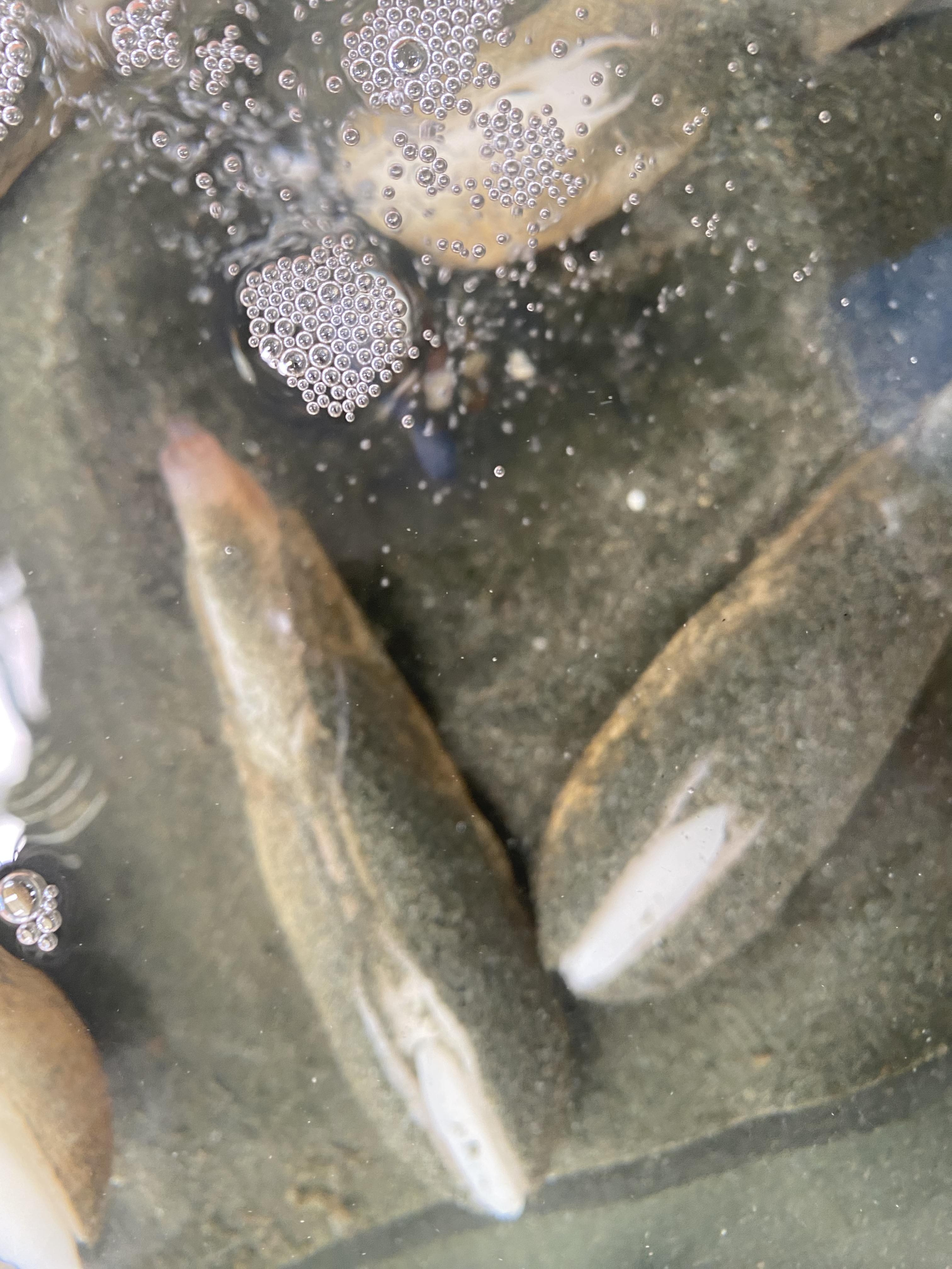Healthy: (161, 420, 567, 1218), (501, 979, 506, 989)
